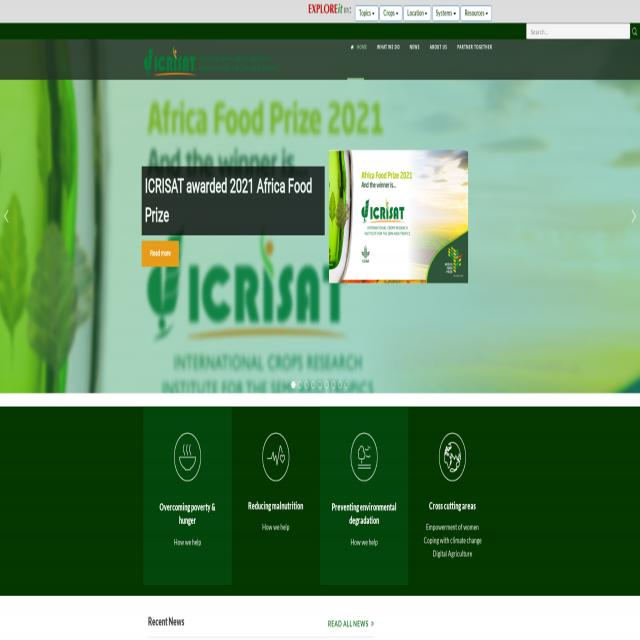button: (329, 150, 468, 284), (143, 45, 279, 77), (262, 433, 290, 481), (350, 433, 378, 481), (174, 433, 201, 481), (439, 433, 466, 481), (142, 241, 179, 266), (308, 2, 354, 15), (455, 41, 495, 55), (461, 5, 492, 21), (403, 5, 431, 21), (432, 5, 460, 21), (374, 41, 402, 55), (355, 5, 378, 21), (426, 41, 452, 55), (380, 5, 402, 21), (349, 41, 369, 55), (405, 41, 424, 55), (630, 205, 638, 228), (1, 208, 11, 225), (630, 23, 640, 39)
field: (526, 24, 630, 38)
